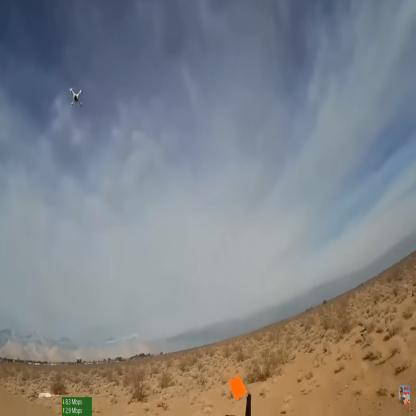drone: (67, 80, 86, 111)
